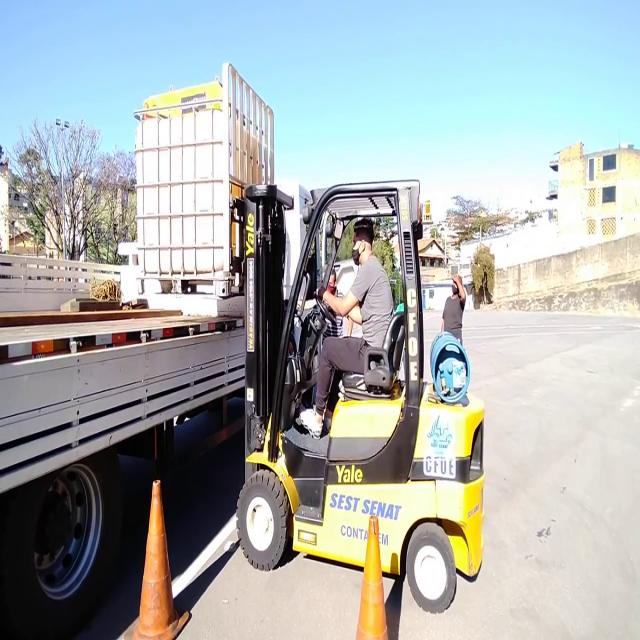Chariot elevateur: (226, 168, 492, 616)
